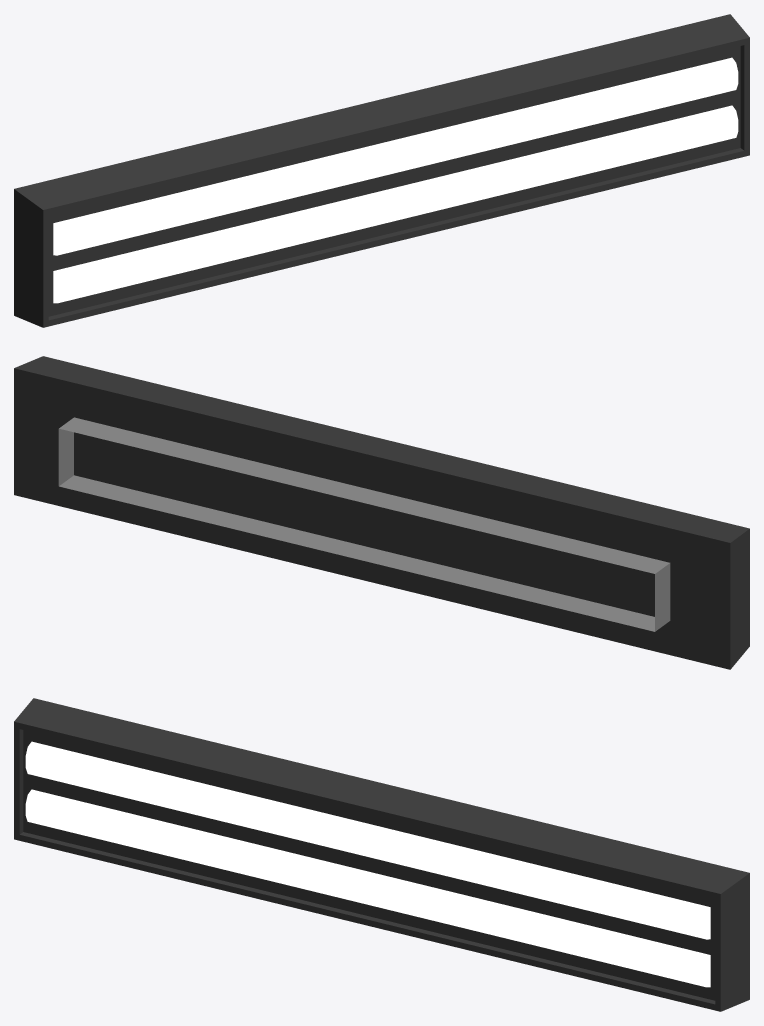
File: Ceiling_Lamp_2.glb
3 renders of one model, top to bottom at view 1: azimuth 30°, elevation 25°; view 2: azimuth 150°, elevation 25°; view 3: azimuth 330°, elevation 25°, orthographic.
Visible parts, largest first — view 1: Ceiling Lamp 2; view 2: Ceiling Lamp 2; view 3: Ceiling Lamp 2.
Boxes of the visible parts, <box> form: Ceiling Lamp 2: <box>14,14,749,327</box>; Ceiling Lamp 2: <box>14,356,749,669</box>; Ceiling Lamp 2: <box>14,698,749,1011</box>.
Size of the model in its own units: 1.09 by 0.1849 by 0.111.
2 materials, 1 textured.
